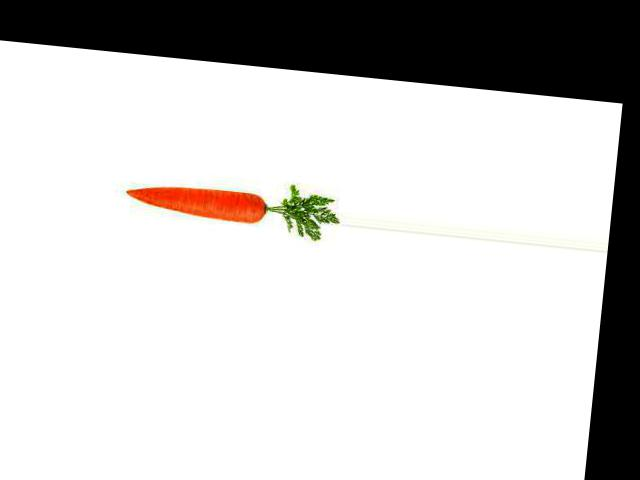carrot: (119, 172, 272, 228)
